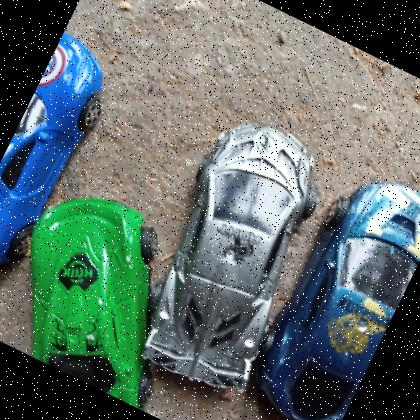Car: (111, 100, 357, 406)
